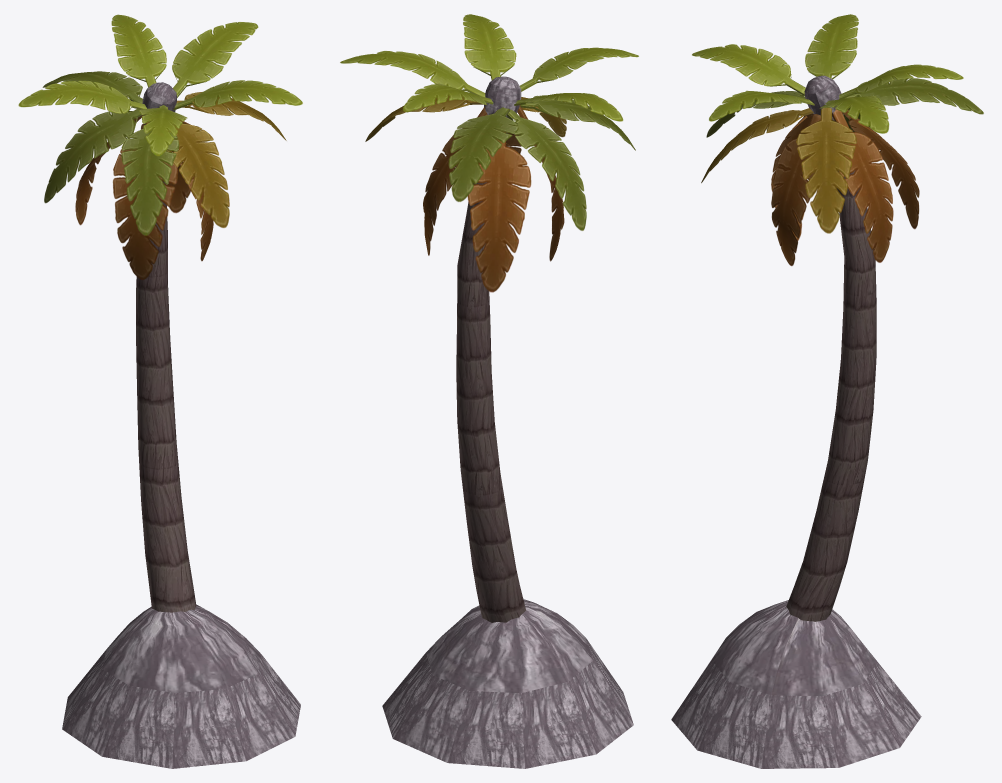
The model's file is base-palm-tree01.glb.
3 views of the same model, side by side, from view 1: azimuth 30°, elevation 25°; view 2: azimuth 150°, elevation 25°; view 3: azimuth 270°, elevation 25° (orthographic). The views are drawn at different scales.
Parts seen in each view (by area): view 1: BasePalmTree01; view 2: BasePalmTree01; view 3: BasePalmTree01.
Part boxes in pixels (left/top/right/bottom): BasePalmTree01: left=18, top=14, right=302, bottom=768; BasePalmTree01: left=340, top=14, right=638, bottom=768; BasePalmTree01: left=671, top=14, right=983, bottom=768.
Size of the model in its own units: 10.83 by 25.28 by 11.08.
2 materials, 2 textured.
